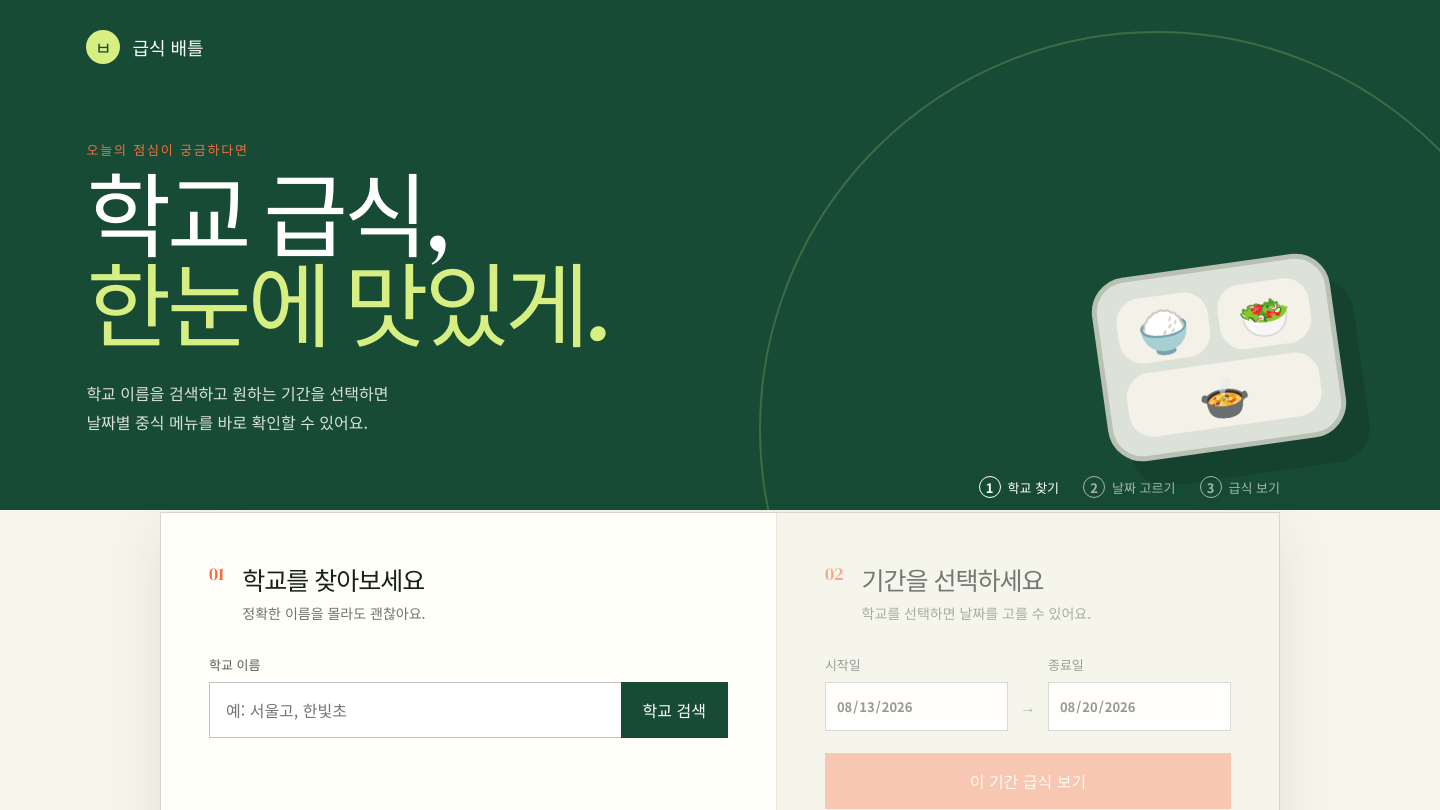
Test: App › shows a distinct empty search result
Type "없는학교" into the field labelled "학교 이름" at (415, 710), box [209, 682, 620, 738]
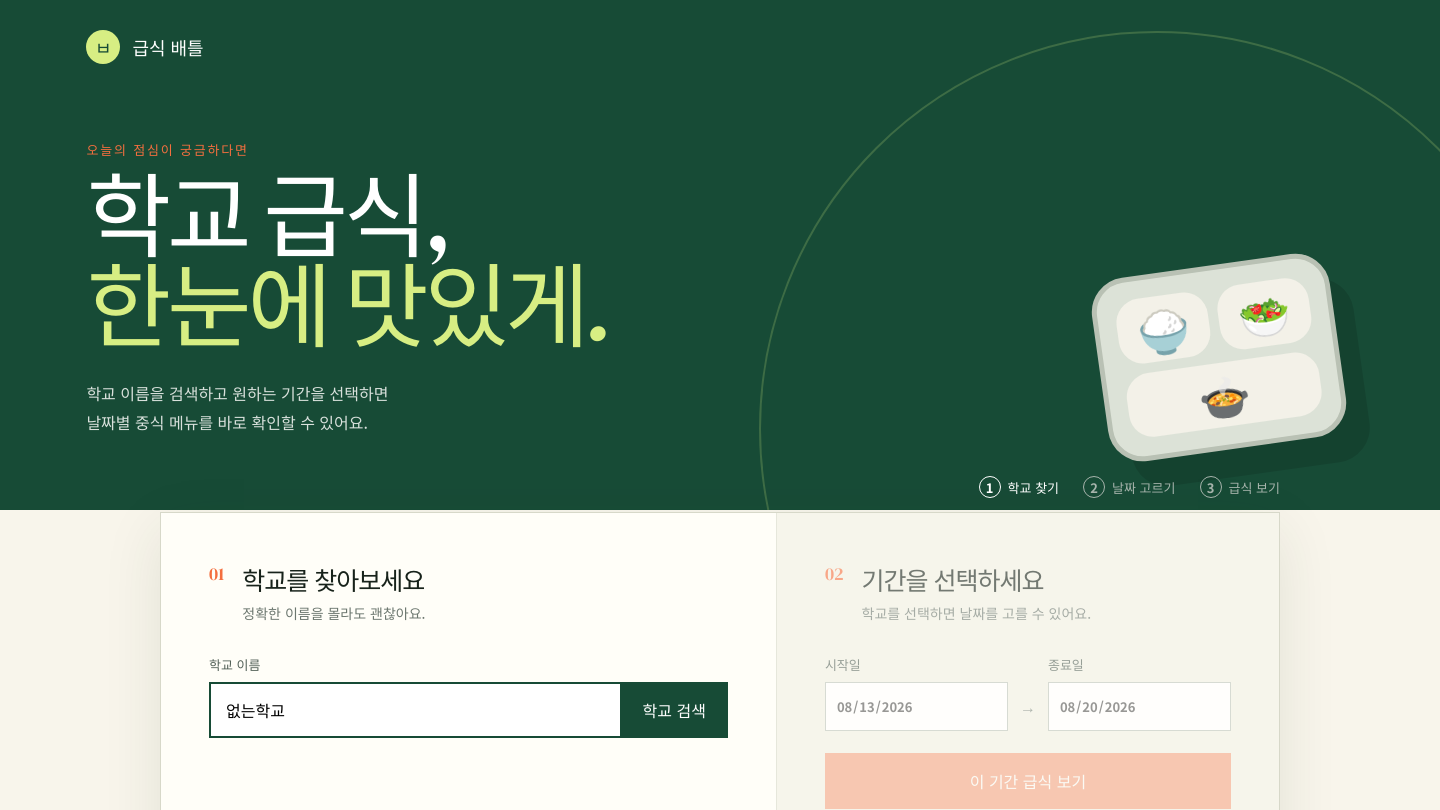
Click the button "학교 검색" at (674, 710), box [620, 682, 728, 738]
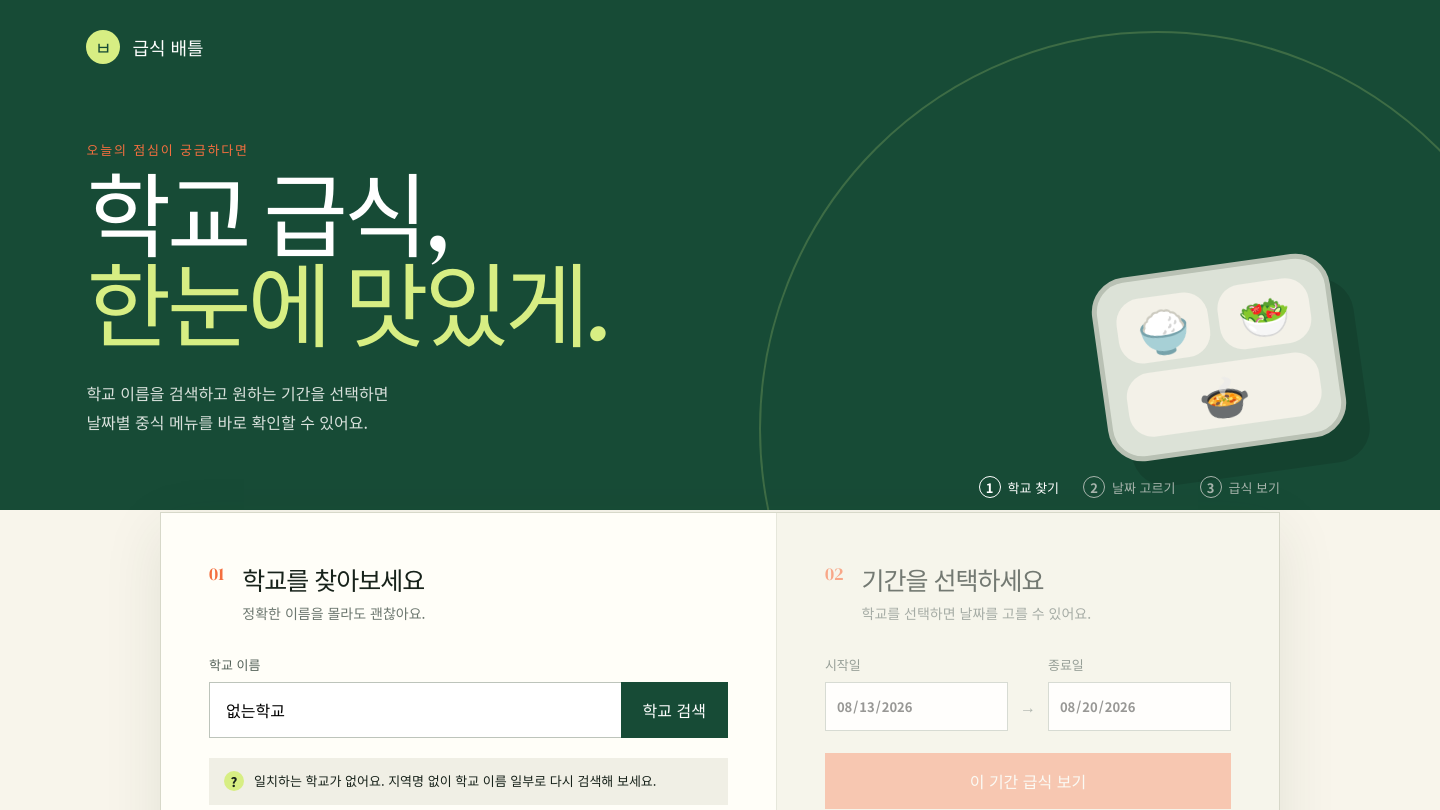
Now the text "일치하는 학교가 없어요. 지역명 없이 학교 이름 일부로 다시 검색해 보세요." is shown, box [254, 771, 656, 792]
